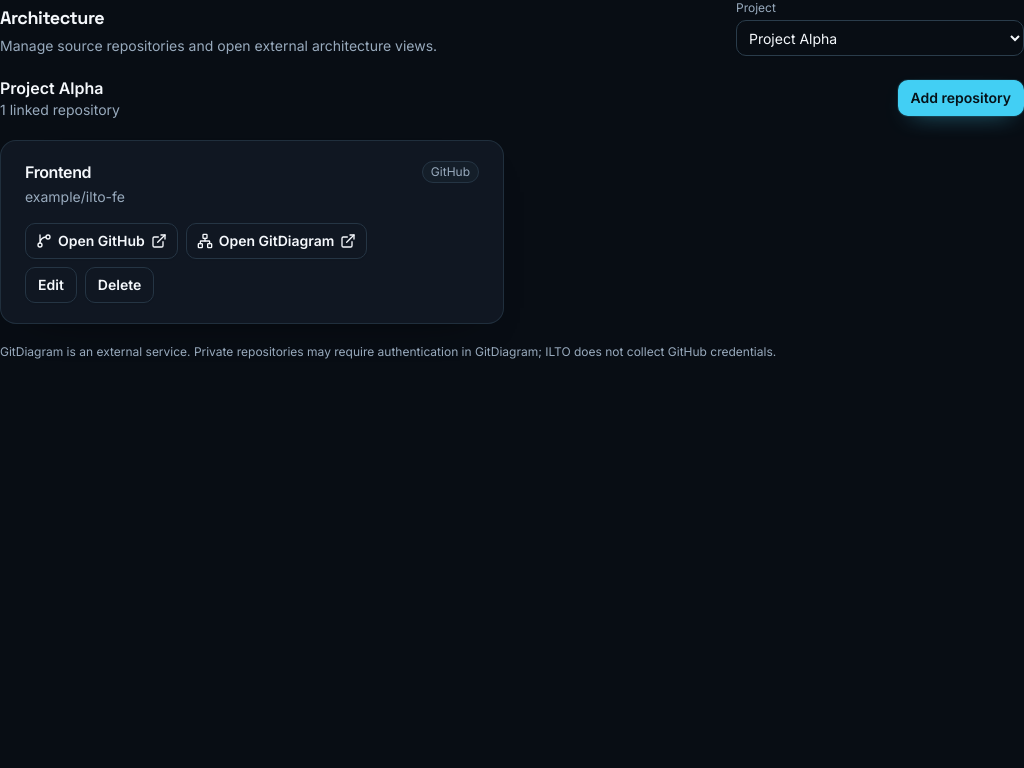
it: Projects Architecture with a mocked backend › deletes only after confirmation and then displays the empty state
The image size is (1024, 768).
expect the text "example/ilto-fe" is shown: met, box [25, 188, 125, 205]
Click the button with aria-label "Delete repository: Frontend": (120, 285) [85, 267, 154, 303]
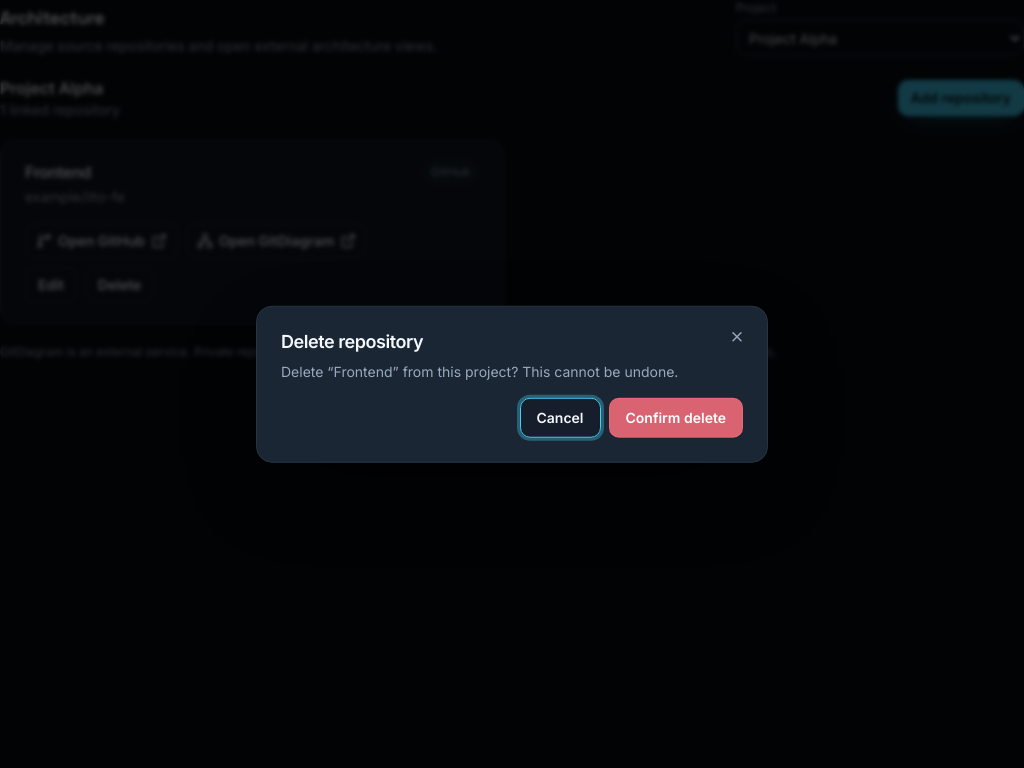
expect the text "Delete “Frontend” from this project? This cannot be undone." is shown: met, box [281, 361, 743, 381]
Click the button "Confirm delete": (676, 417) [608, 397, 743, 437]
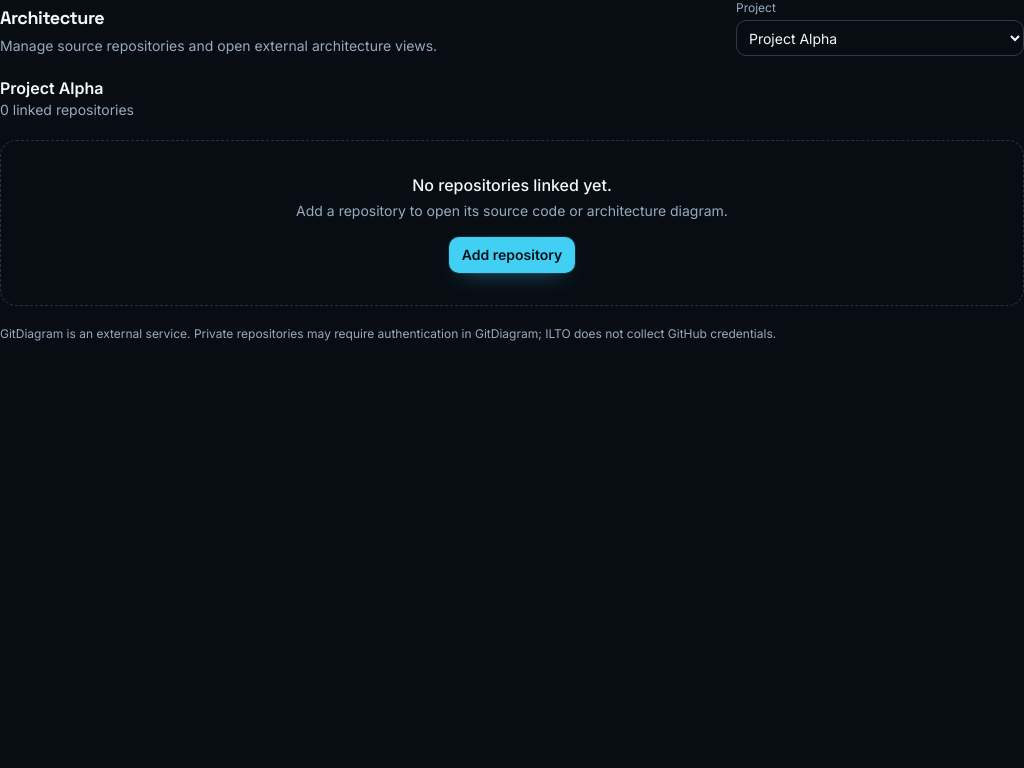
expect the text "No repositories linked yet." is shown: met, box [412, 175, 612, 195]
